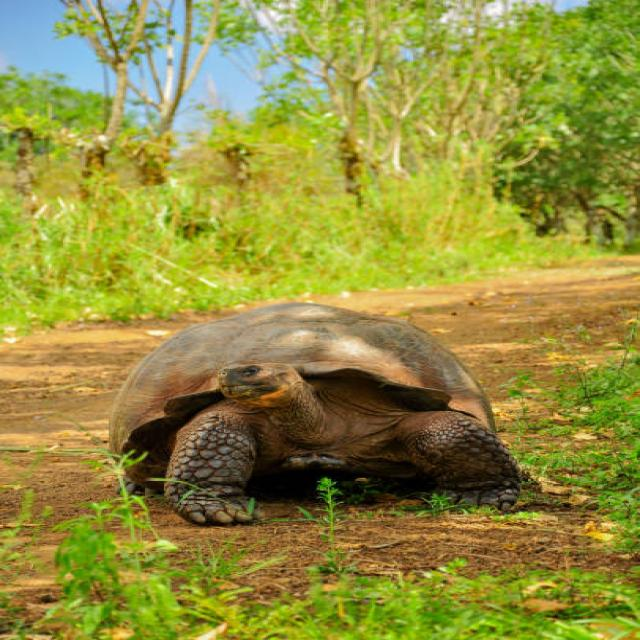sea turtle: (160, 426, 303, 568), (394, 412, 554, 504)
tortoise: (112, 278, 488, 376), (188, 349, 360, 430)
